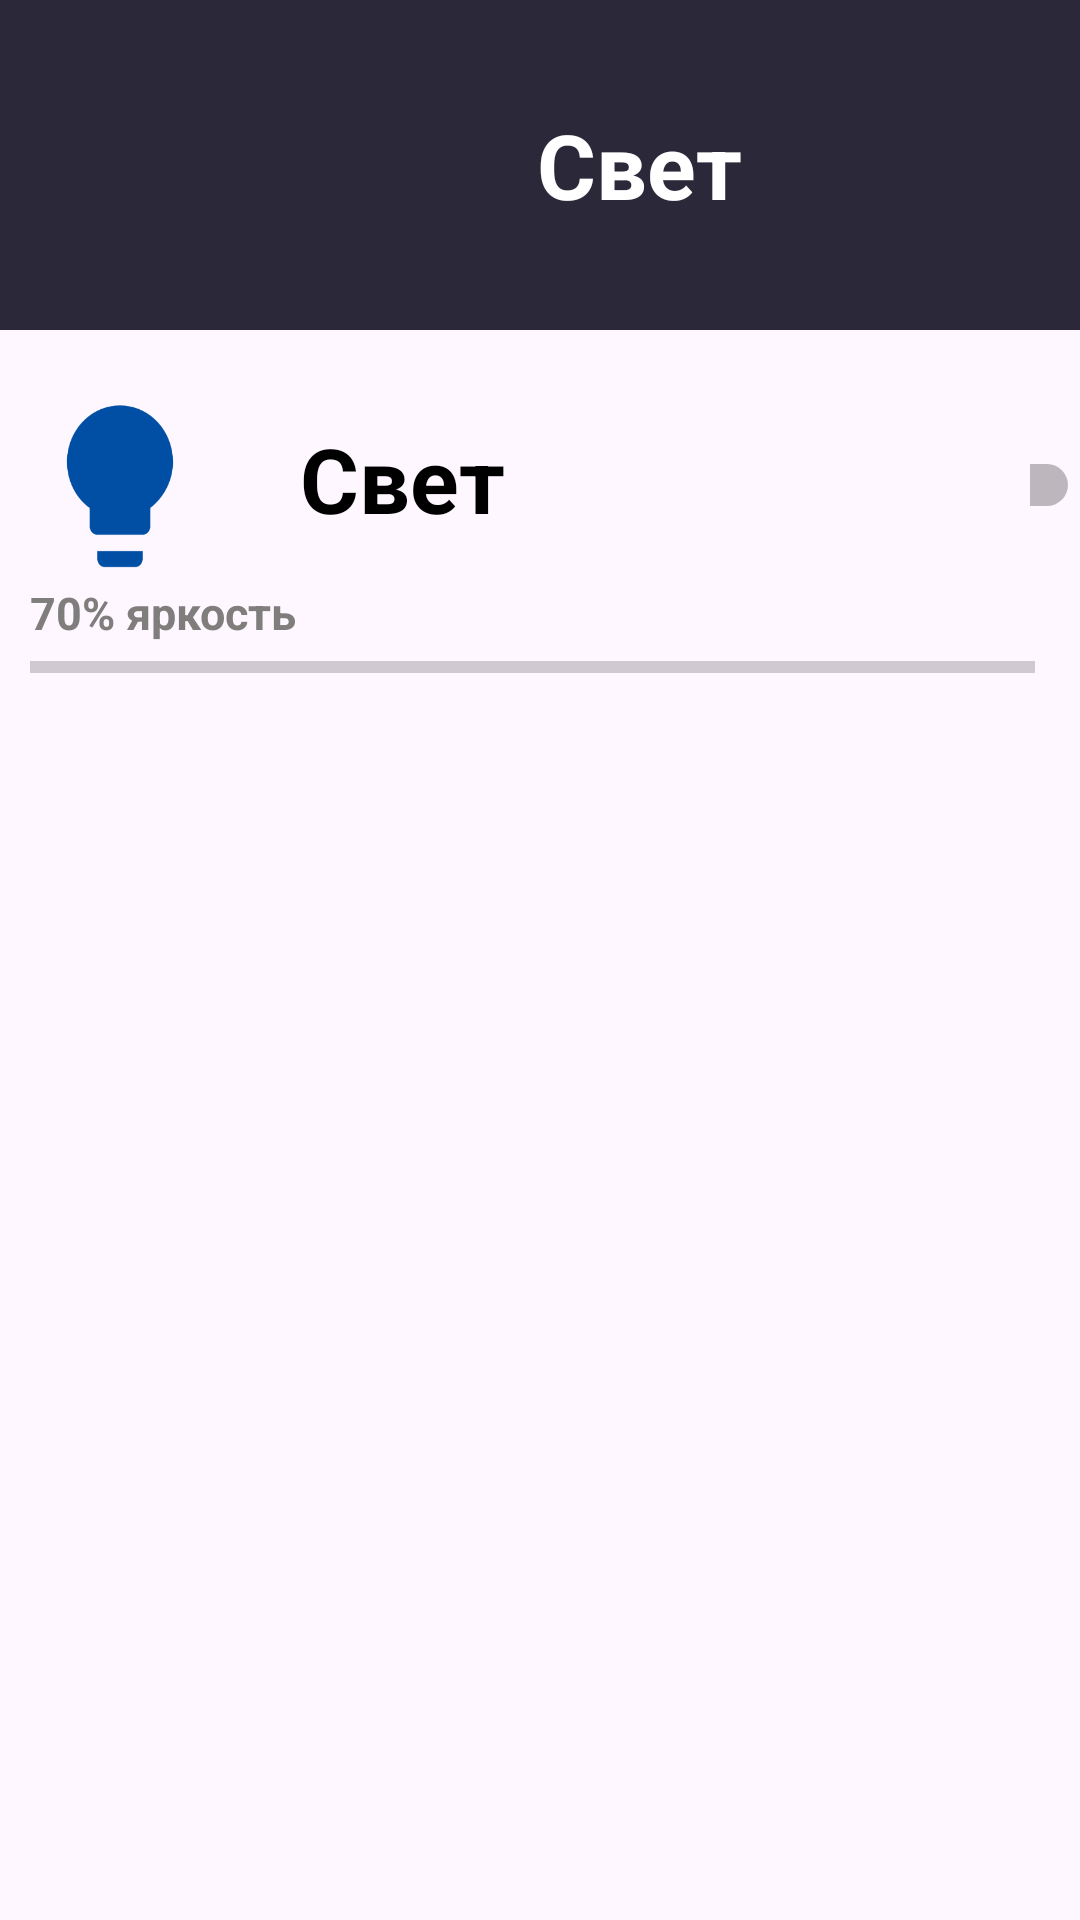

Named icons in this screenshot (1080w x 1920h) and their bounding boxes, (x1, y1, x2, y2):
svet: (66, 405, 173, 568)
